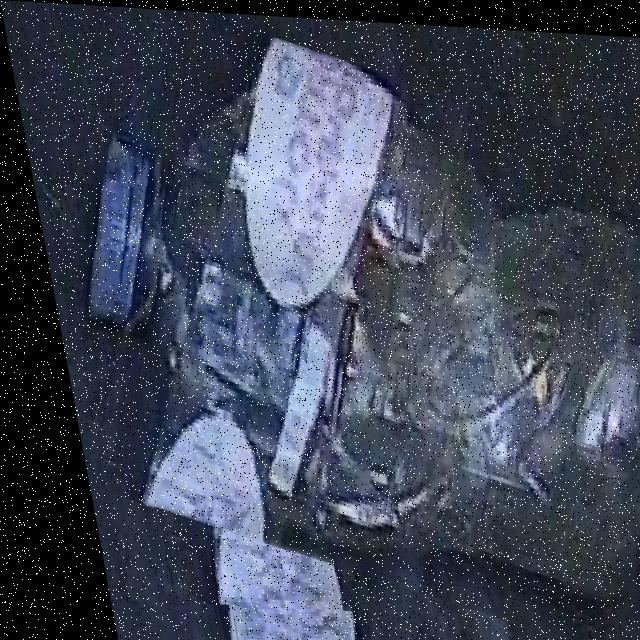litter: (2, 12, 640, 628)
